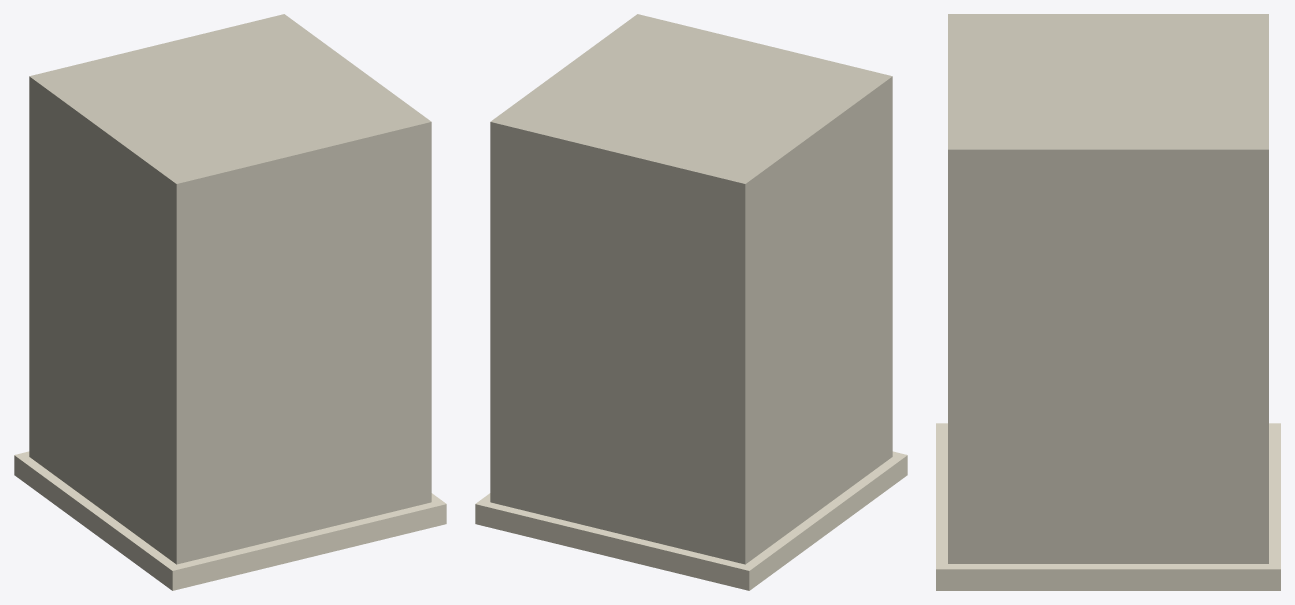
Rendered from square-tower-base-tall.glb.
3 views of the same model, side by side, from view 1: azimuth 30°, elevation 25°; view 2: azimuth 150°, elevation 25°; view 3: azimuth 270°, elevation 25° (orthographic). The views are drawn at different scales.
Visible parts, largest first — view 1: square-tower-base-tall; view 2: square-tower-base-tall; view 3: square-tower-base-tall.
Part boxes in pixels (x1,y1,x2,y2): square-tower-base-tall: [14, 14, 446, 590]; square-tower-base-tall: [475, 14, 907, 590]; square-tower-base-tall: [936, 14, 1280, 590].
Bounding box in the file's own units: 4.3 × 6 × 4.3.
